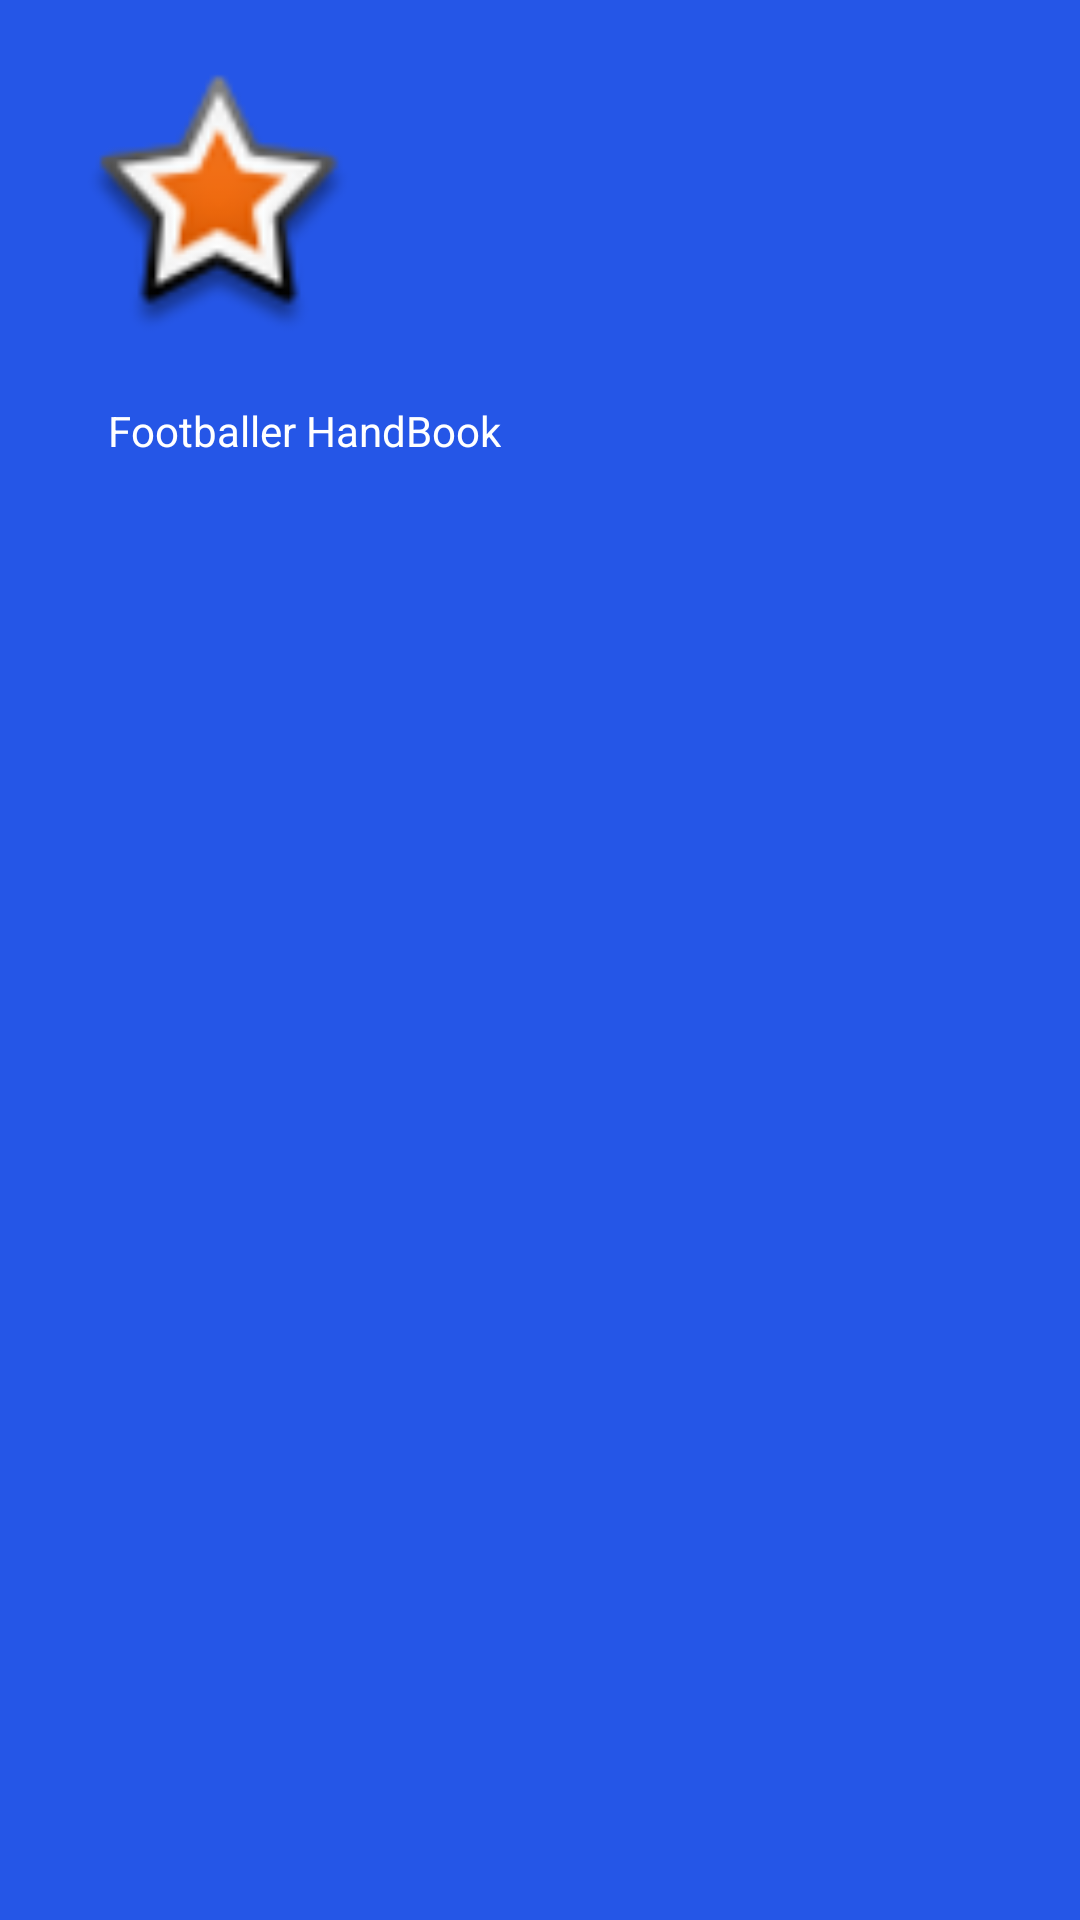

Icons on this 1080 × 1920 Android screen, each with its box as bbox(x1, y1, x2, y2):
star on: bbox(99, 76, 338, 320)
